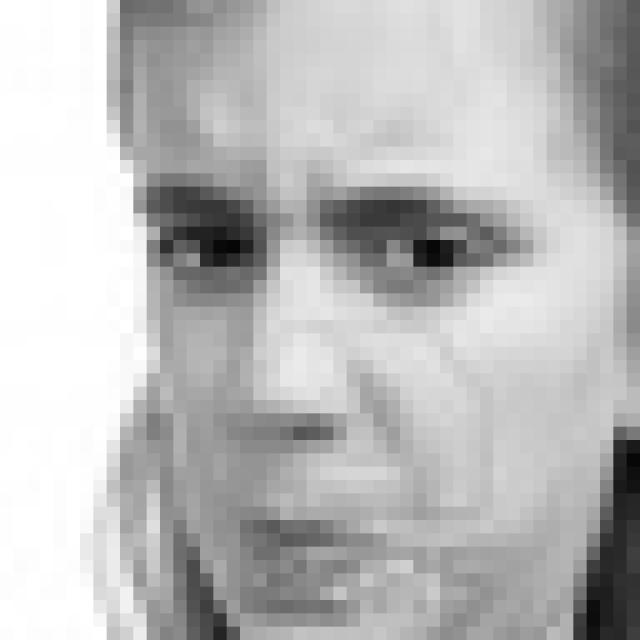disgust: (139, 179, 528, 612)
